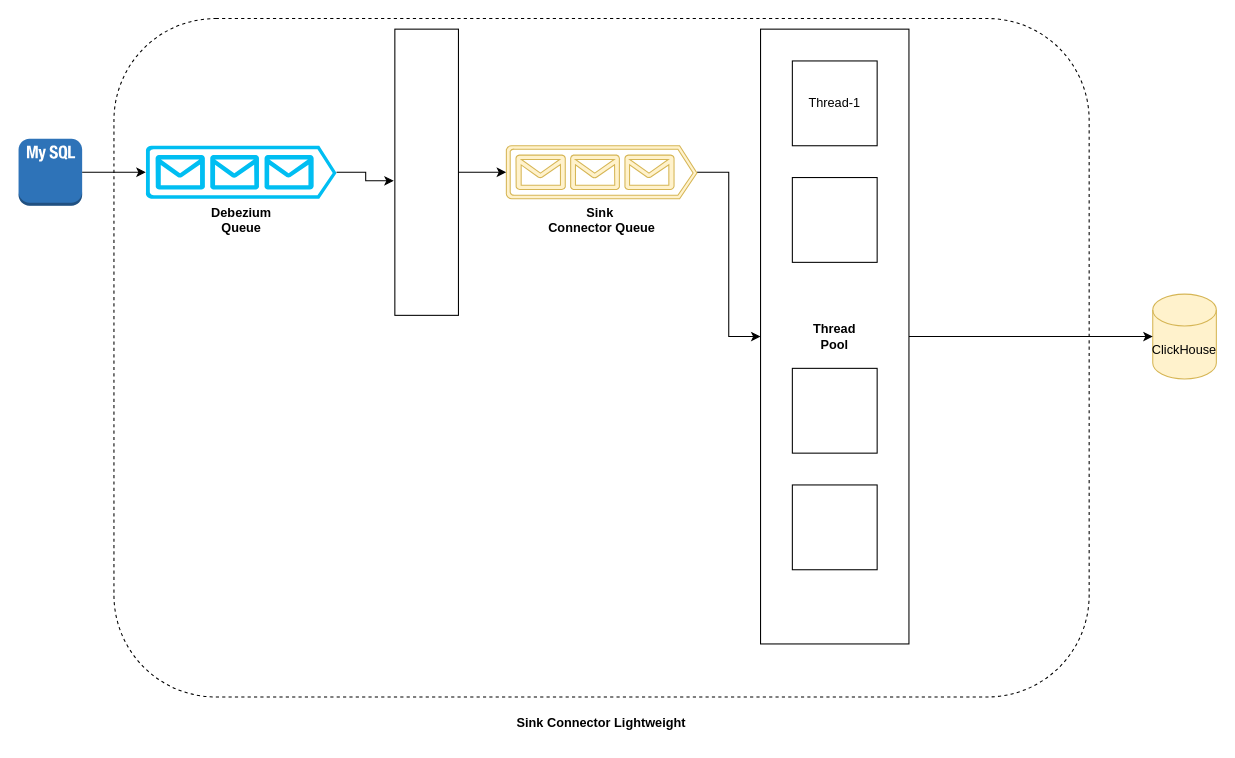
Some shapes in this 1235 by 758 pixel diagram are drawn without their labels. The shapes that lost their labels are listed below. From the top down, each one's centre as x and y in pixels, then its label:
point (49, 172): binlogs
point (426, 171): Main Thread
